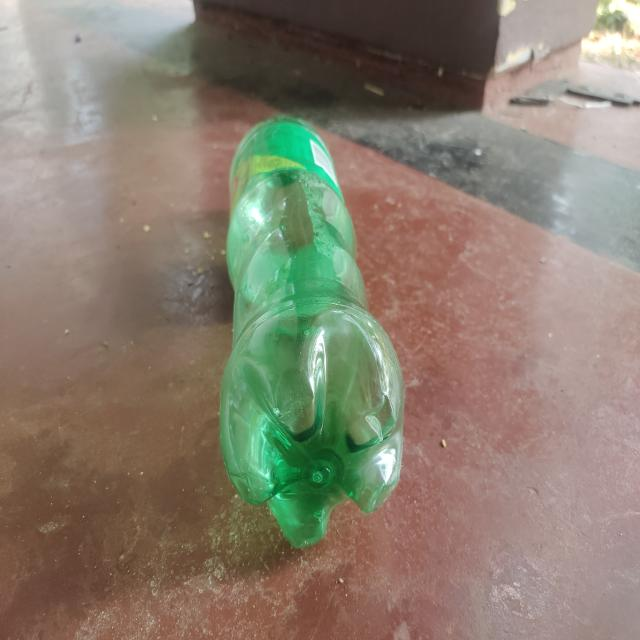plastic: (217, 107, 406, 550)
